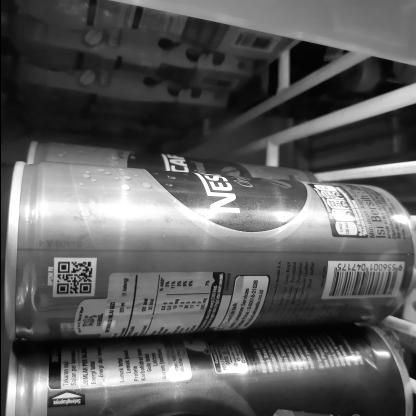alumunium_can: (0, 114, 416, 337)
